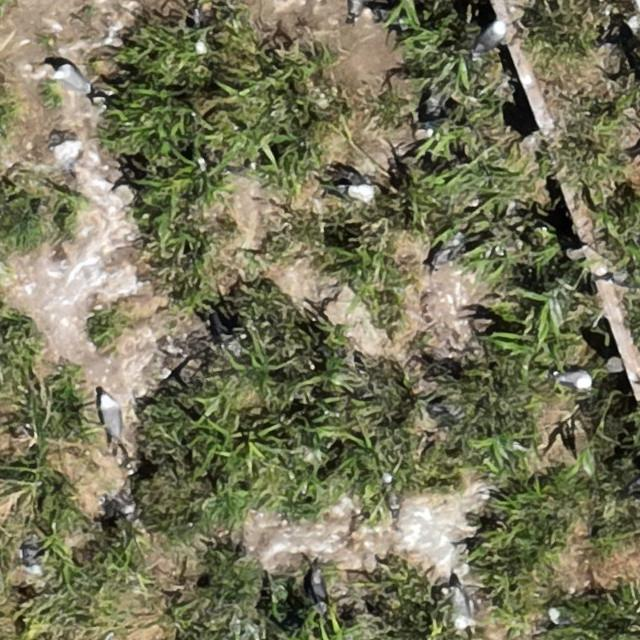umineko: (431, 228, 467, 274), (382, 471, 403, 525), (474, 20, 506, 52), (56, 65, 89, 92), (100, 396, 119, 436), (340, 182, 373, 201), (557, 371, 593, 388), (453, 592, 470, 628), (310, 572, 326, 604), (348, 0, 366, 14)
